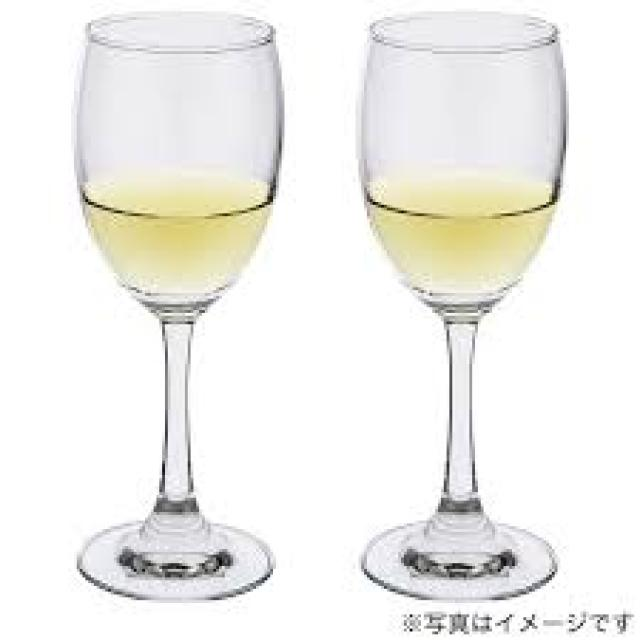glass: (71, 9, 285, 598), (356, 6, 563, 600)
